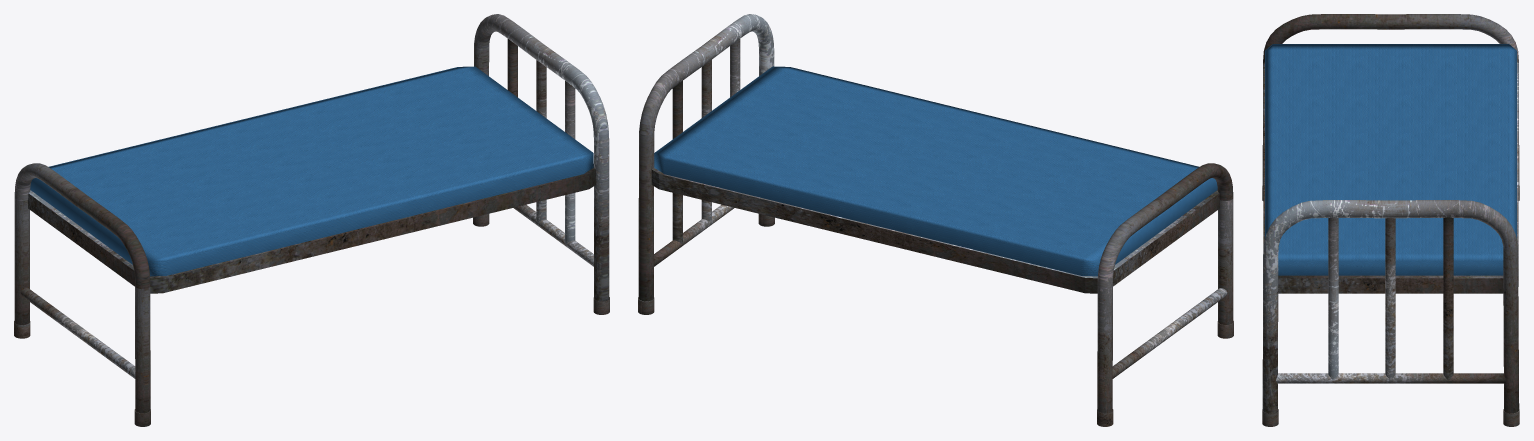
The model's file is bed.fbx.
3 renders of one model, left to right at view 1: azimuth 30°, elevation 25°; view 2: azimuth 150°, elevation 25°; view 3: azimuth 270°, elevation 25°, orthographic.
Parts seen in each view (by area): view 1: Mattress, Base1, BedBase, Base2; view 2: Mattress, Base1, BedBase, Base2; view 3: Mattress, Base1, BedBase, Base2.
Part boxes in pixels (x1=…): Mattress: x1=30, y1=66, x2=593, y2=276; Base1: x1=473, y1=14, x2=609, y2=314; BedBase: x1=28, y1=164, x2=595, y2=293; Base2: x1=14, y1=163, x2=150, y2=426; Mattress: x1=654, y1=66, x2=1217, y2=276; Base1: x1=638, y1=14, x2=774, y2=314; BedBase: x1=651, y1=167, x2=1219, y2=293; Base2: x1=1097, y1=163, x2=1233, y2=426; Mattress: x1=1265, y1=44, x2=1516, y2=275; Base1: x1=1262, y1=200, x2=1519, y2=426; BedBase: x1=1263, y1=62, x2=1518, y2=293; Base2: x1=1262, y1=14, x2=1519, y2=200.
Size of the model in its own units: 270 by 122 by 127.
